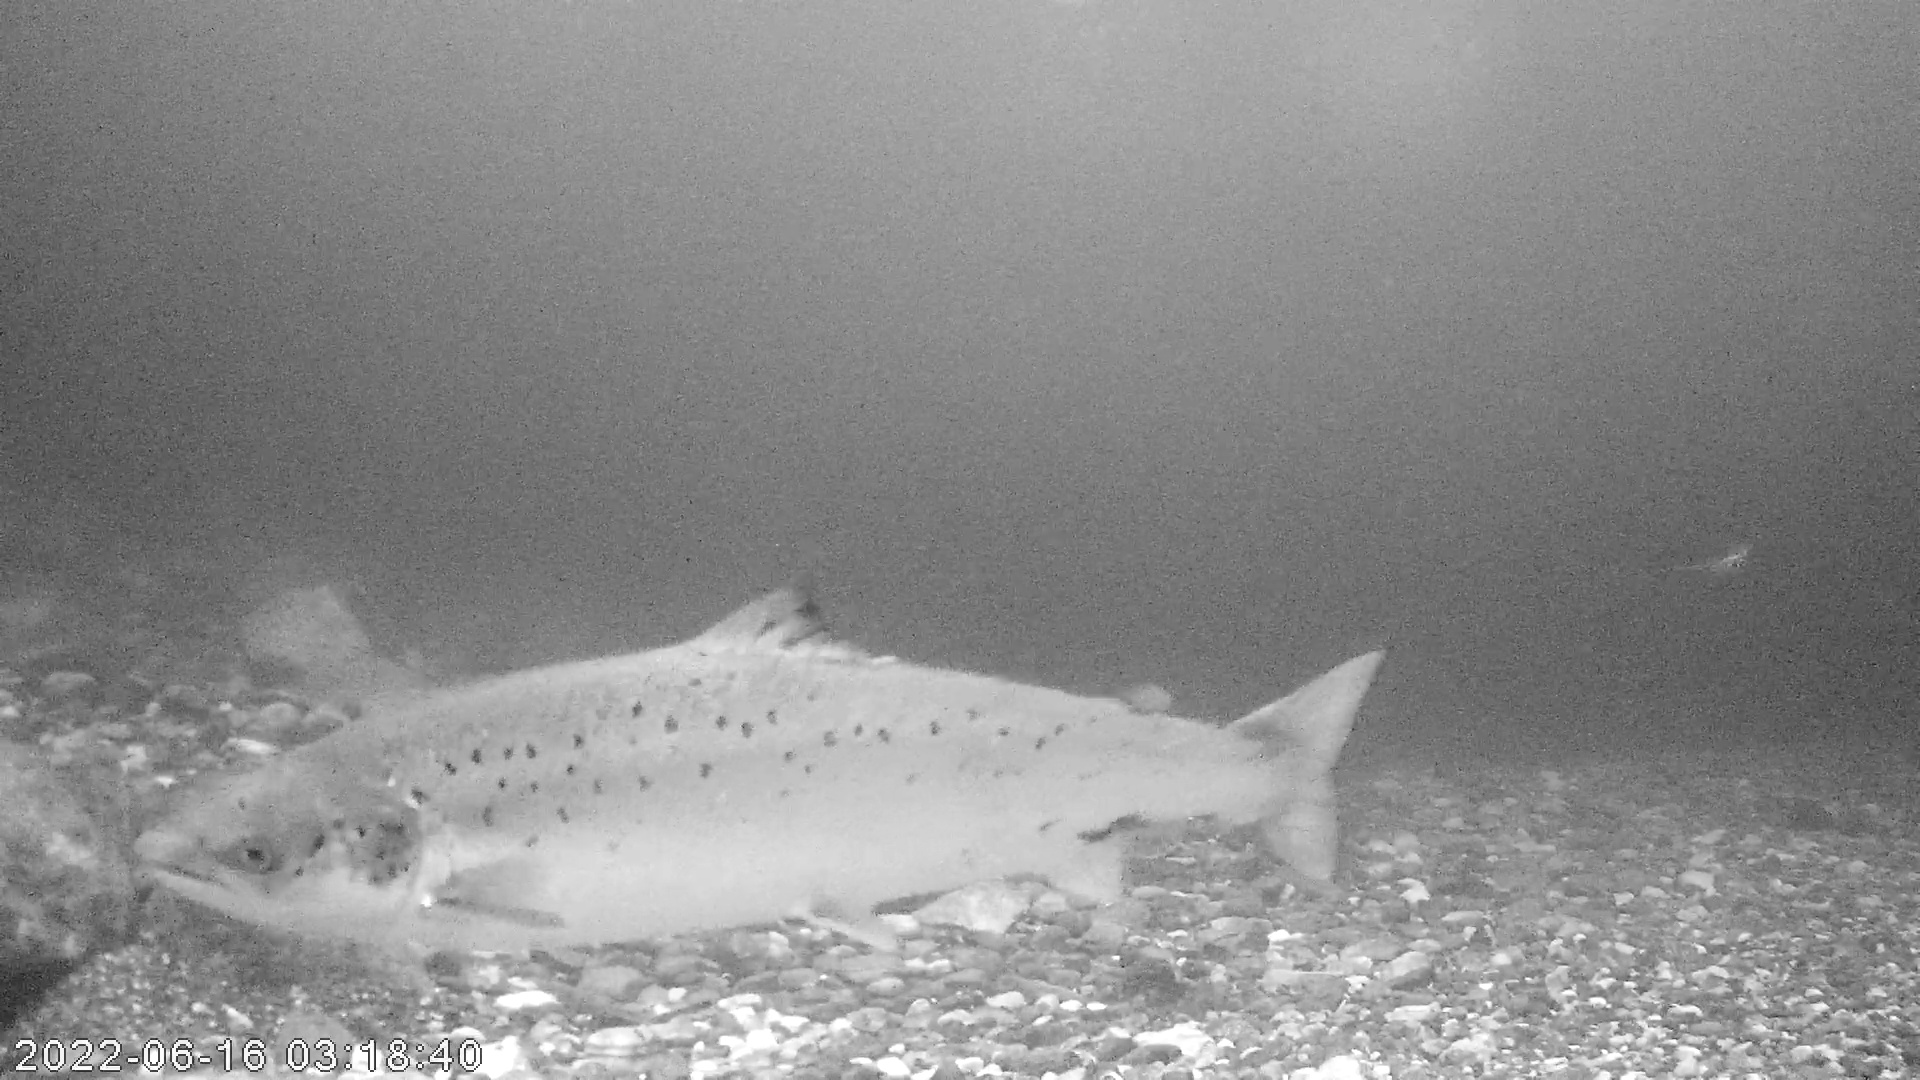salmon: (127, 578, 1389, 955)
